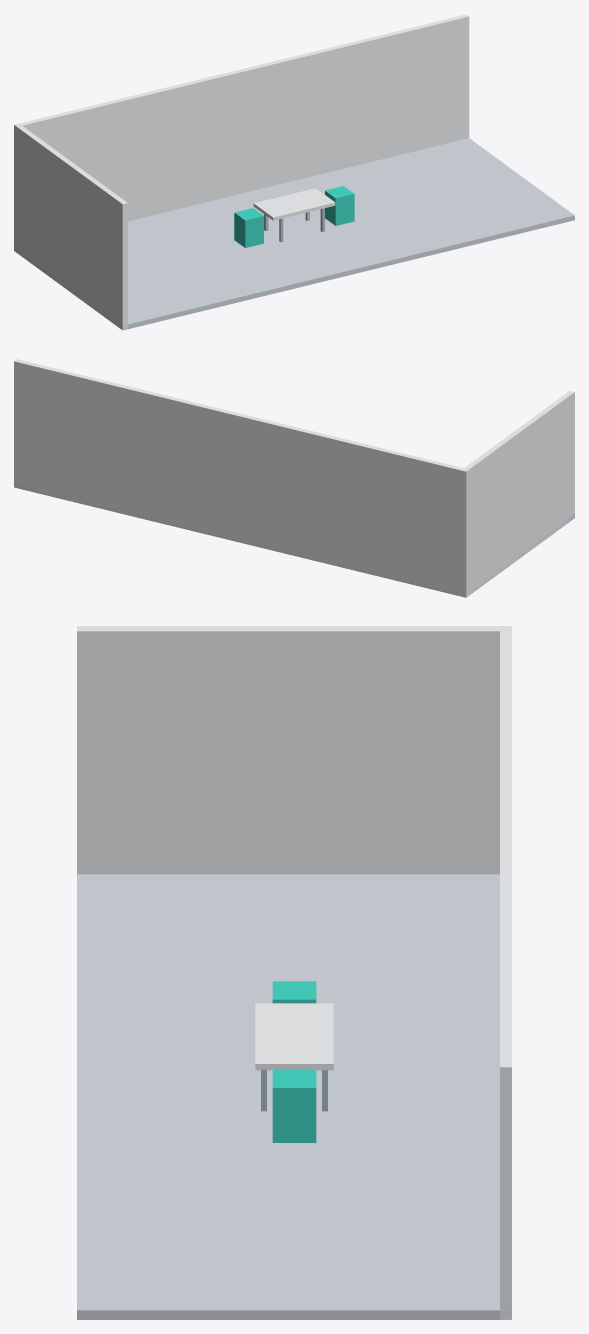
3 renders of one model, top to bottom at view 1: azimuth 30°, elevation 25°; view 2: azimuth 150°, elevation 25°; view 3: azimuth 270°, elevation 25°, orthographic. The views are drawn at different scales.
Visible parts, largest first — view 1: Exhibition Booth Concept; view 2: Exhibition Booth Concept; view 3: Exhibition Booth Concept.
Boxes of the visible parts, <box> form: Exhibition Booth Concept: <box>14,14,574,330</box>; Exhibition Booth Concept: <box>14,359,574,597</box>; Exhibition Booth Concept: <box>77,626,511,1319</box>.
Bounding box in the file's own units: 12 × 3.2 × 5.
